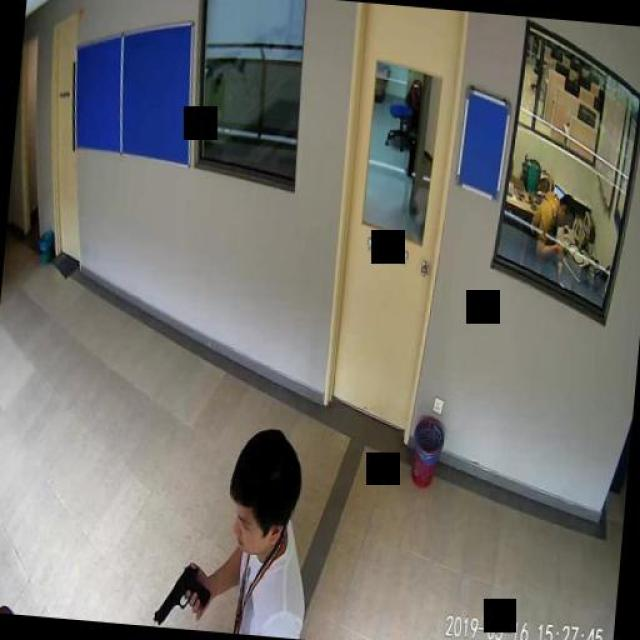gun: (152, 560, 212, 628)
